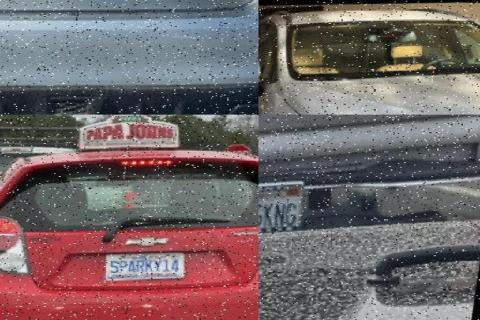LicensePlate: (257, 177, 308, 233), (108, 250, 188, 278)
